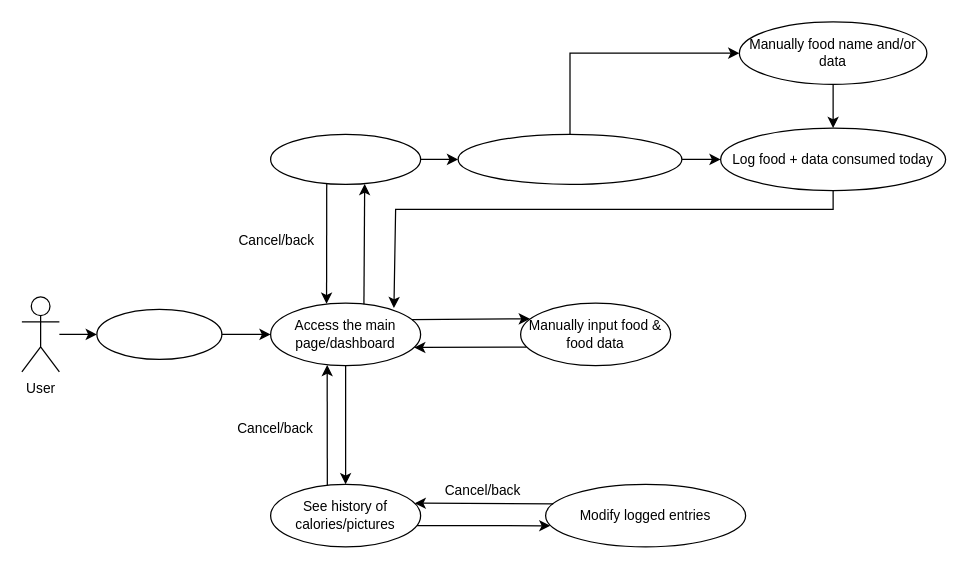
This 968x569 diagram has some shape labels left out. The centre of each missing label's shape, as x and y in pixels:
"Launch the app" goes at pixel 159 333.
"See detected food name and its data" goes at pixel 569 158.
"Take/upload picture of food" goes at pixel 345 158.
